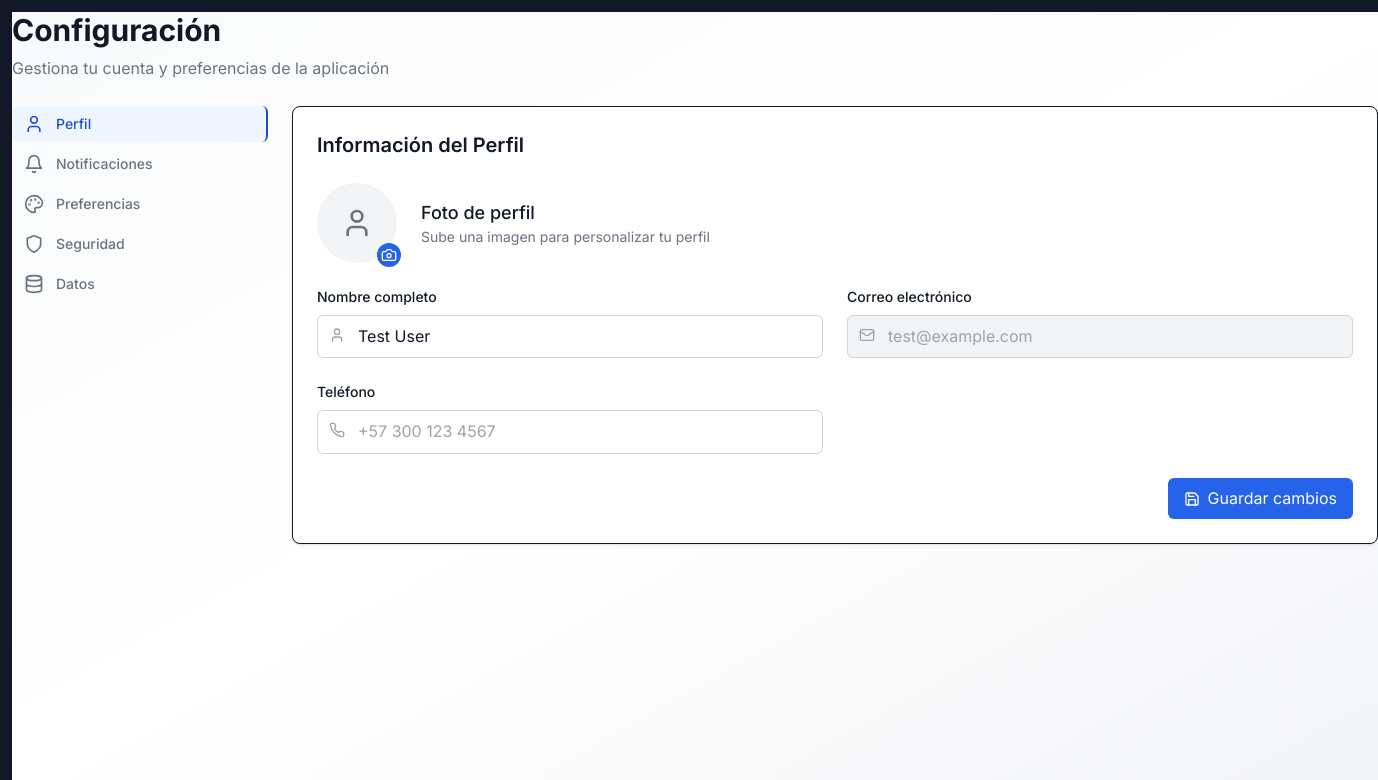
Test case: SettingsPage › debe cambiar entre pestañas correctamente
// Hacer clic en la pestaña de Notificaciones
Click the button "Notificaciones": (140, 164) top-left (12, 146), bottom-right (268, 182)
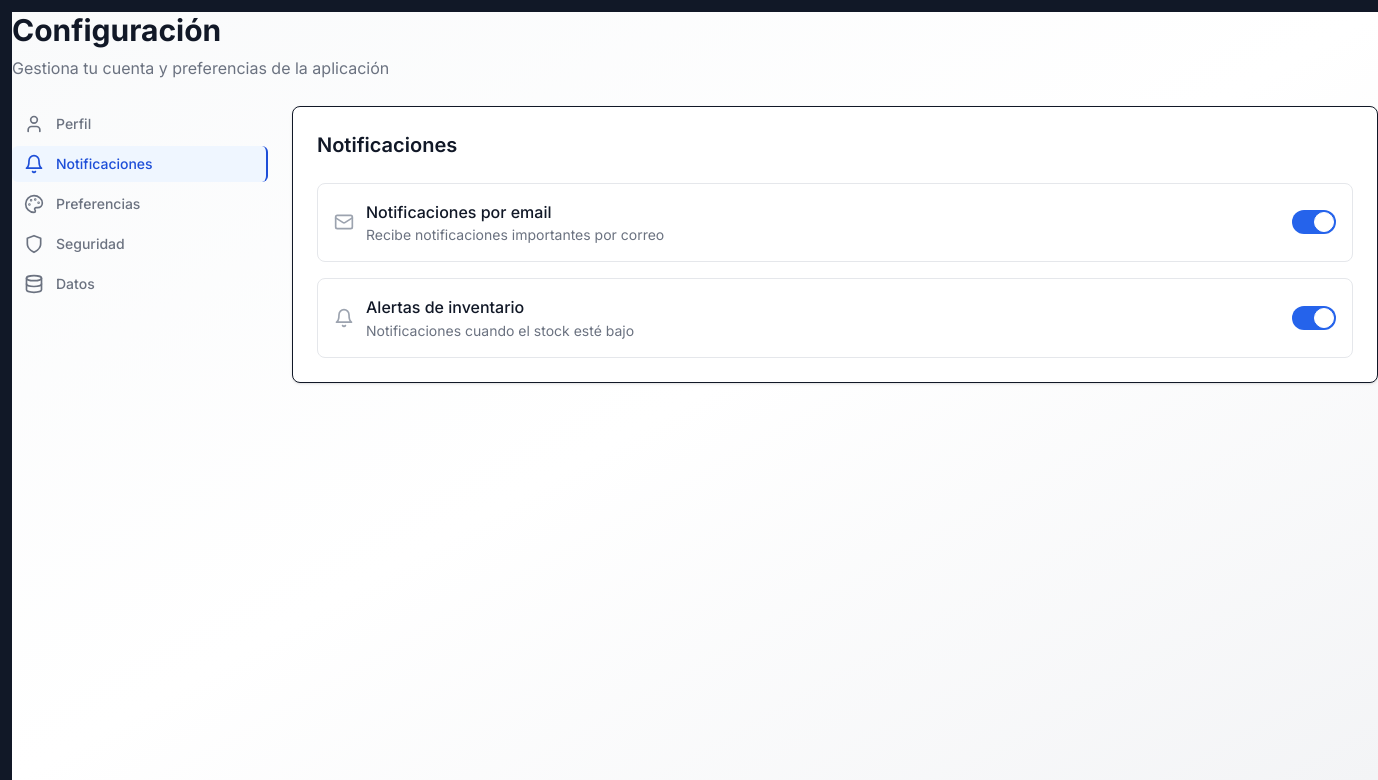
Now the heading "Notificaciones por email" is shown, box top-left (366, 202), bottom-right (552, 222)
Now the heading "Alertas de inventario" is shown, box top-left (366, 297), bottom-right (524, 317)
// Hacer clic en la pestaña de Preferencias
Click the button "Preferencias": (140, 204) top-left (12, 186), bottom-right (268, 222)
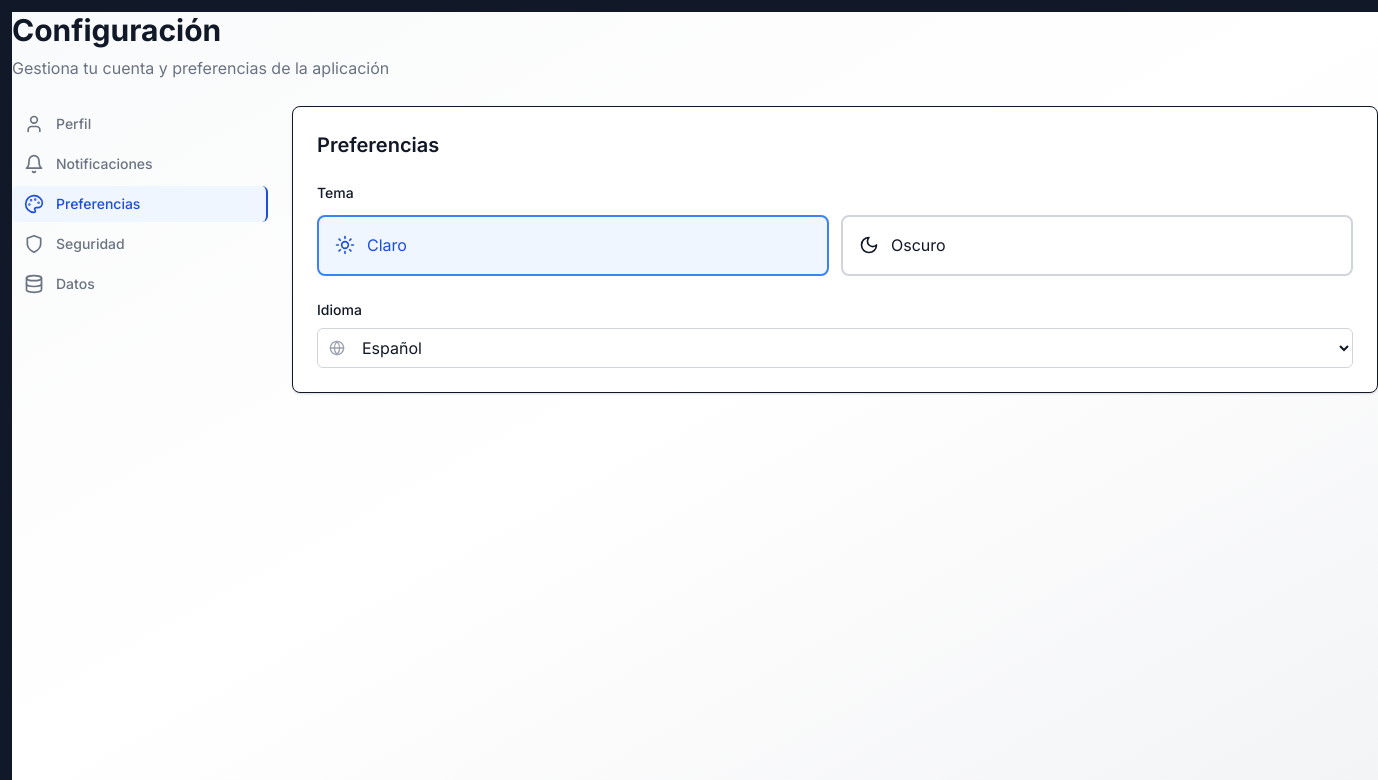
Now the text "Tema" is shown, box top-left (317, 184), bottom-right (354, 201)
Now the text "Idioma" is shown, box top-left (317, 301), bottom-right (362, 318)
